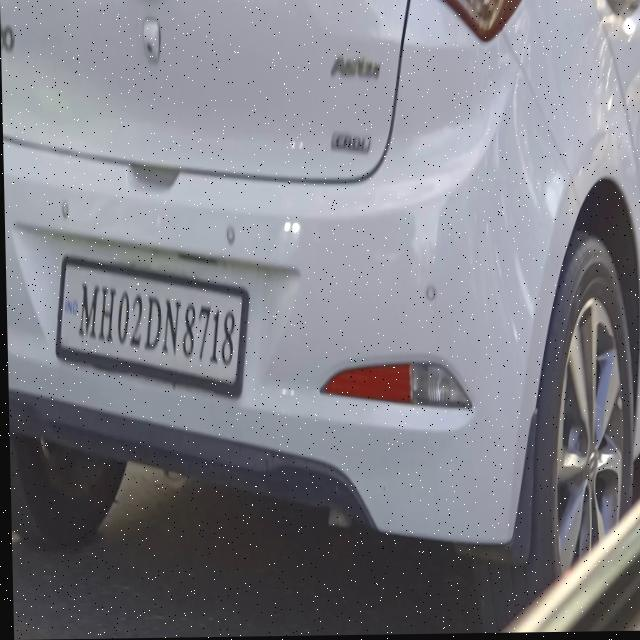plate: (49, 249, 253, 414)
